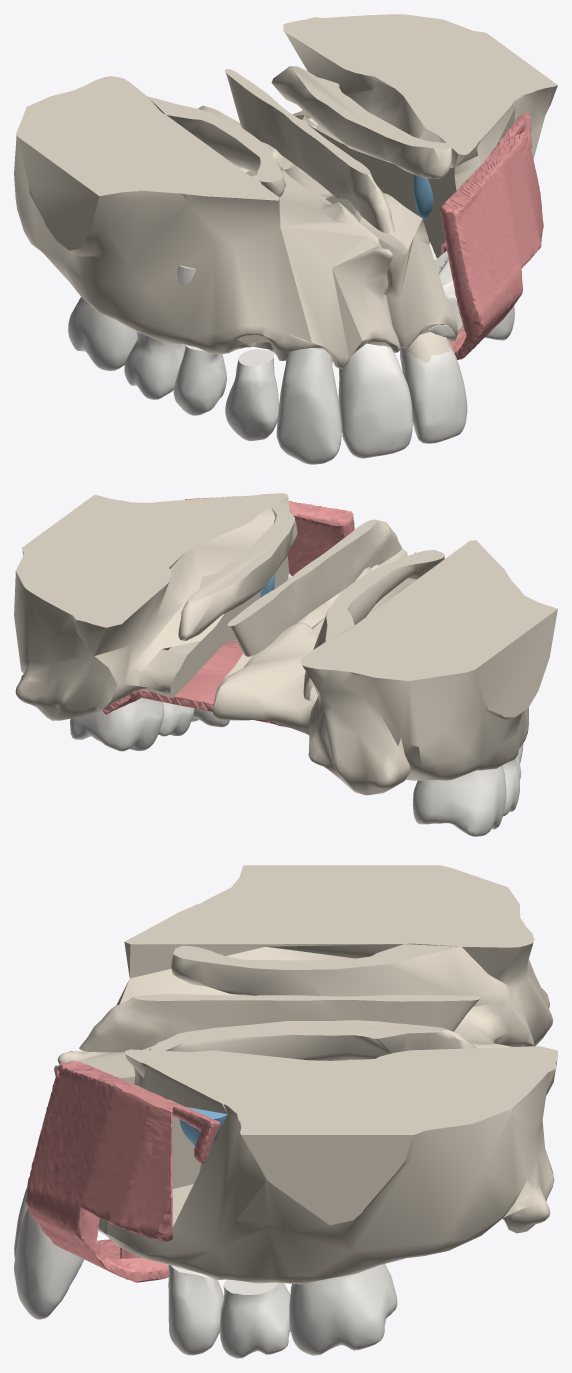
Rendered from abg-short-term.glb.
3 views of the same model, one above another, from view 1: azimuth 30°, elevation 25°; view 2: azimuth 150°, elevation 25°; view 3: azimuth 270°, elevation 25° (orthographic). The views are drawn at different scales.
Visible parts, largest first — view 1: bone, teeth, soft-tissue, graft, canine; view 2: bone, teeth, soft-tissue; view 3: bone, soft-tissue, teeth.
Part boxes in pixels (left/top/right/bottom): bone: left=14, top=14, right=557, bottom=443; teeth: left=68, top=265, right=514, bottom=464; soft-tissue: left=440, top=113, right=543, bottom=359; graft: left=428, top=243, right=463, bottom=340; canine: left=413, top=174, right=433, bottom=218; bone: left=14, top=493, right=557, bottom=795; teeth: left=70, top=697, right=523, bottom=836; soft-tissue: left=102, top=496, right=354, bottom=727; bone: left=14, top=865, right=557, bottom=1319; soft-tissue: left=25, top=1061, right=220, bottom=1282; teeth: left=14, top=1188, right=397, bottom=1358.
Size of the model in its own units: 0.0972 by 0.0502 by 0.0828.
